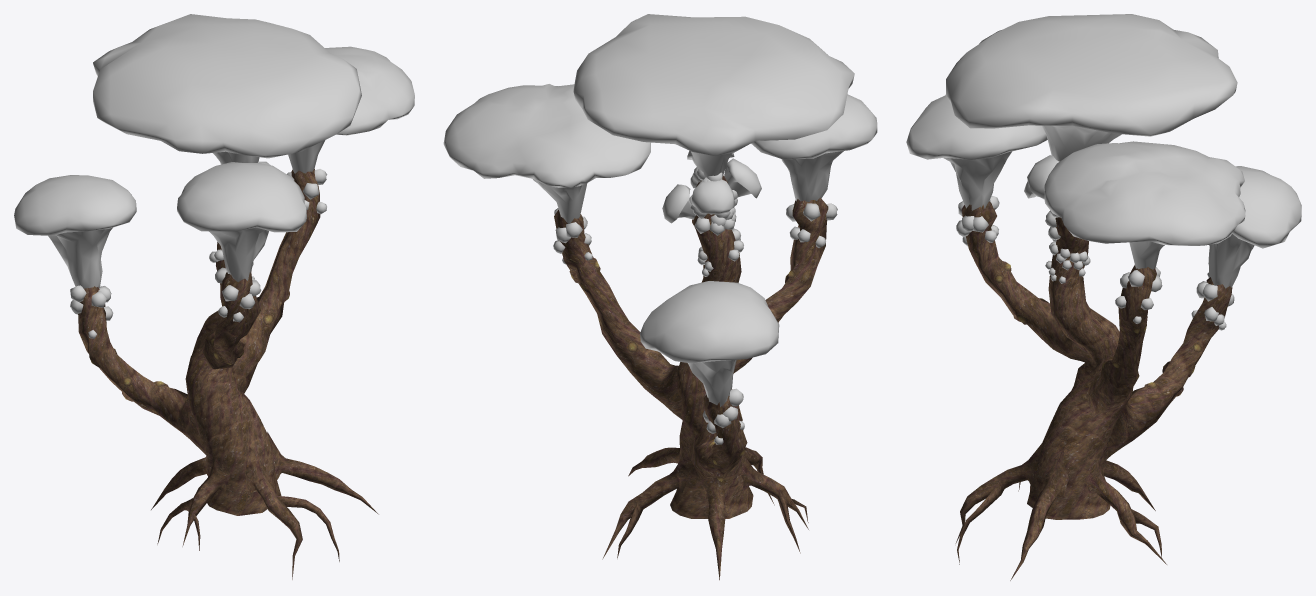
File: Shrooomtree_3_L2.fbx
3 views of the same model, side by side, from view 1: azimuth 30°, elevation 25°; view 2: azimuth 150°, elevation 25°; view 3: azimuth 270°, elevation 25° (orthographic). The views are drawn at different scales.
Parts seen in each view (by area): view 1: polySurface161; view 2: polySurface161; view 3: polySurface161.
Boxes of the visible parts, x1,y1,x2,y2 form: polySurface161: (14, 14, 414, 579); polySurface161: (443, 14, 877, 580); polySurface161: (906, 14, 1301, 580).
Size of the model in its own units: 800 by 1095 by 787.
